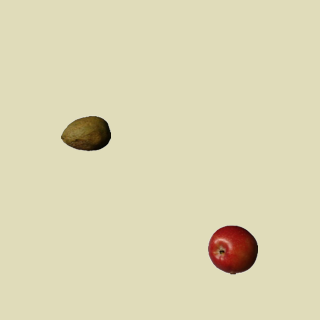Apple Braeburn: (207, 224, 257, 274)
Papaya: (60, 108, 110, 158)
